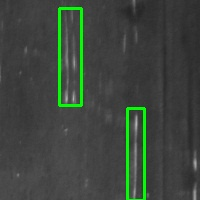inclusion: (160, 5, 195, 196)
scratches: (59, 8, 81, 105), (127, 108, 144, 200)
